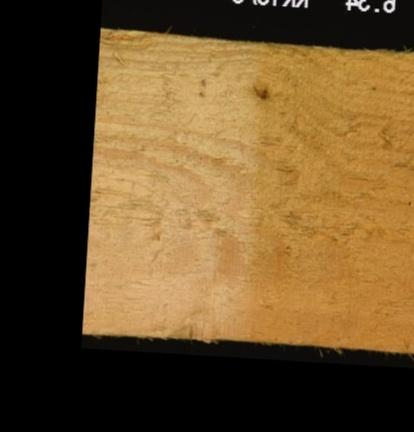split: (106, 200, 163, 236)
